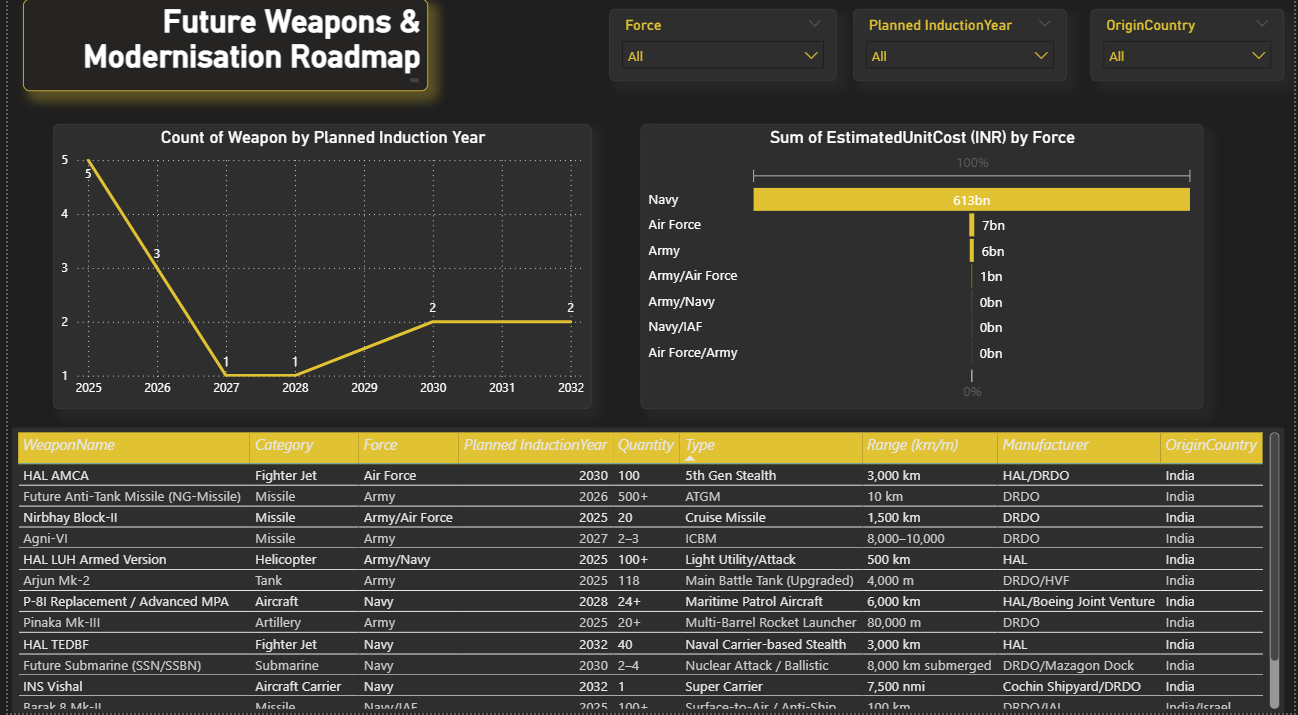

The dashboard page shown, as its layout file describes it:
{"tool":"powerbi","page":{"name":"Page 3","canvas":[1280,720],"ordinal":2},"visuals":[{"type":"textbox","title":"Future Weapons & Modernisation Roadmap","box":[14.9,8.7,403,92.1],"z":0},{"type":"slicer","fields":{"Values":["Weapons for Future.Force"]},"box":[598.3,18.7,226.4,72.1],"z":1000},{"type":"slicer","fields":{"Values":["Weapons for Future.PlannedInductionYear"]},"box":[840.9,18.7,212.7,72.1],"z":2000},{"type":"slicer","fields":{"Values":["Weapons for Future.OriginCountry"]},"box":[1077.3,18.7,192.8,72.1],"z":3000},{"type":"lineChart","title":"Count of Weapon by Planned Induction Year","fields":{"Category":["Weapons for Future.Planned InductionYear"],"Y":["CountNonNull(Weapons for Future.WeaponName)"]},"box":[44.8,133.1,536.1,283.6],"z":4000},{"type":"funnel","fields":{"Category":["Weapons for Future.Force"],"Y":["Sum(Weapons for Future.EstimatedUnitCost (INR))"]},"box":[629.4,133.1,559.8,283.6],"z":5000},{"type":"tableEx","fields":{"Values":["Weapons for Future.WeaponName","Weapons for Future.Category","Weapons for Future.Force","Weapons for Future.Planned InductionYear","Weapons for Future.Quantity","Weapons for Future.Type","Weapons for Future.Range (km/m)","Weapons for Future.Manufacturer","Weapons for Future.OriginCountry"]},"box":[3.7,435.4,1266.4,284.9],"z":6000}]}

Visuals, with their boxes in screenshot pixels (x1, y1, x2, y2), scaled from the page's 1280x720 canvas onto the 1298x715 screenshot:
"Future Weapons & Modernisation Roadmap" textbox: box(15, 9, 424, 100)
slicer - Weapons for Future.Force: box(607, 19, 836, 90)
slicer - Weapons for Future.PlannedInductionYear: box(853, 19, 1068, 90)
slicer - Weapons for Future.OriginCountry: box(1092, 19, 1288, 90)
"Count of Weapon by Planned Induction Year" lineChart: box(45, 132, 589, 414)
funnel - Weapons for Future.Force x Sum(Weapons for Future.EstimatedUnitCost (INR)): box(638, 132, 1206, 414)
tableEx - Weapons for Future.WeaponName x Weapons for Future.Category: box(4, 432, 1288, 714)
